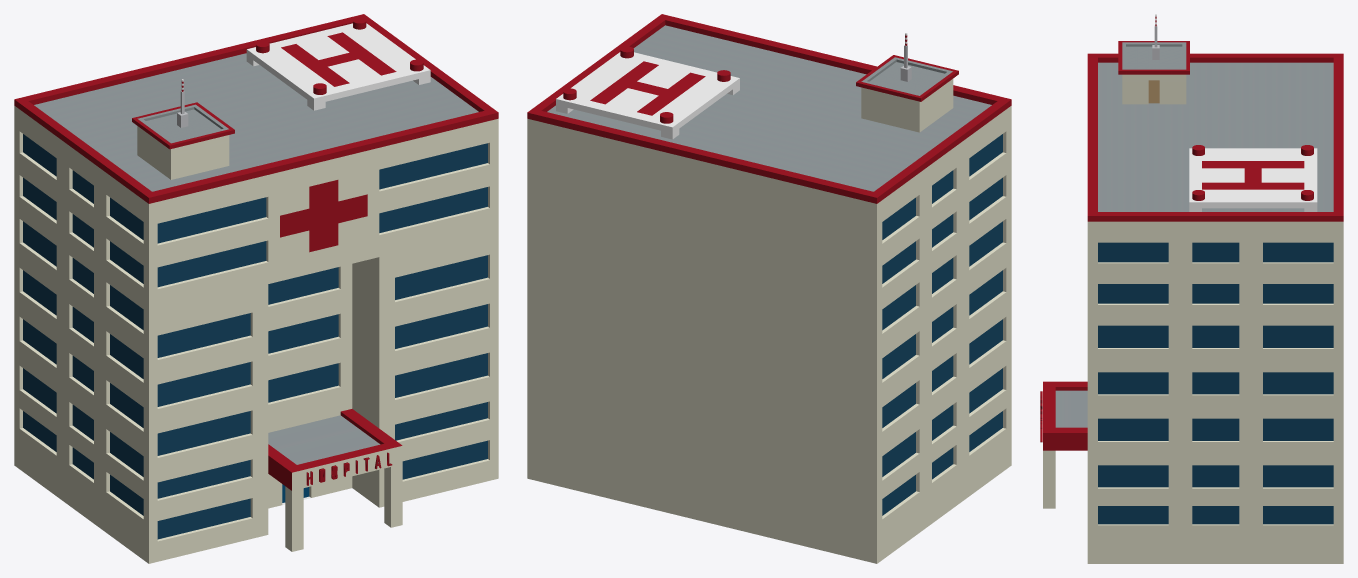
The model's file is hospital.fbx.
3 renders of one model, left to right at view 1: azimuth 30°, elevation 25°; view 2: azimuth 150°, elevation 25°; view 3: azimuth 270°, elevation 25°, orthographic. The views are drawn at different scales.
Visible parts, largest first — view 1: Cube; view 2: Cube; view 3: Cube.
Part boxes in pixels (x1,y1,x2,y2): Cube: [14, 14, 498, 563]; Cube: [527, 14, 1011, 563]; Cube: [1040, 14, 1343, 563].
Bounding box in the file's own units: 3000 × 3617 × 2372.
